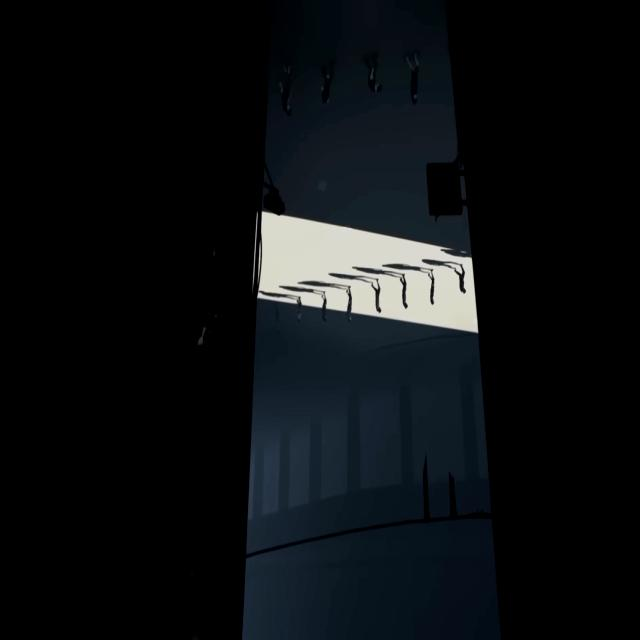boy: (198, 244, 226, 346)
zombie: (364, 54, 382, 92), (406, 52, 419, 104), (280, 64, 292, 116), (321, 62, 334, 104), (454, 264, 466, 294), (372, 279, 382, 313), (400, 274, 408, 309), (428, 269, 435, 305), (346, 286, 352, 323), (322, 292, 327, 322), (297, 296, 302, 322)
